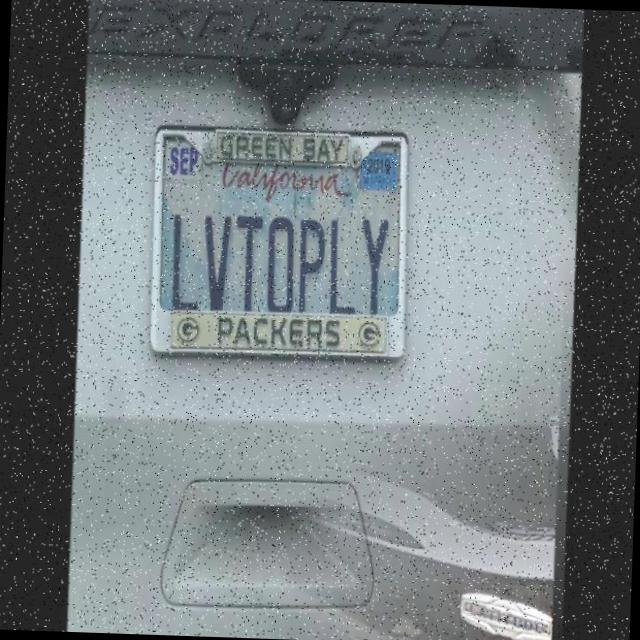LicensePlate: (149, 119, 412, 365)
